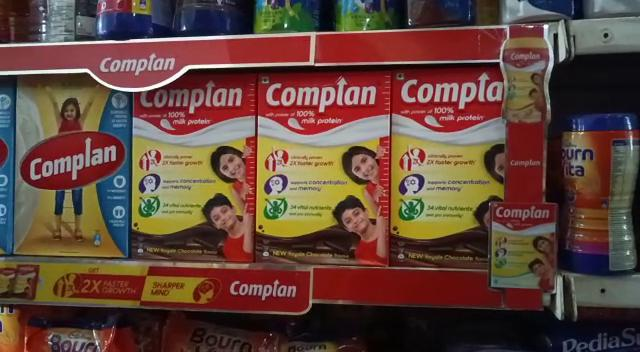Complan Classic Creme: (16, 72, 128, 259)
Complan Royal Chocolate: (390, 69, 513, 268)
